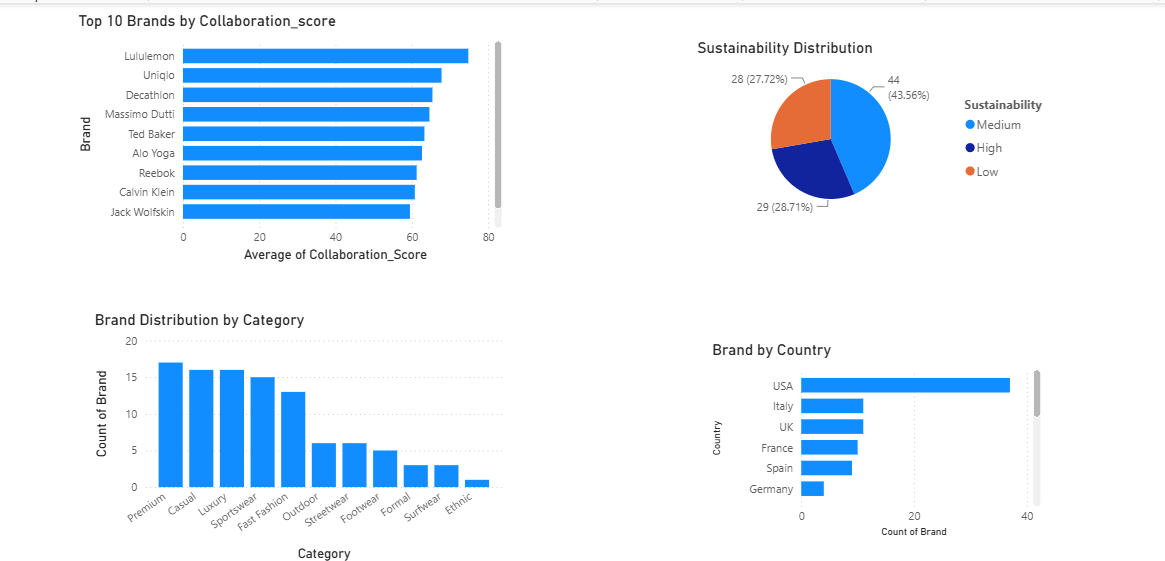

This screenshot's page, from the dashboard's own definition file:
{"tool":"powerbi","page":{"name":"Page 2","canvas":[1280,720],"ordinal":1},"visuals":[{"type":"clusteredBarChart","title":"Top 10 Brands by Collaboration_score","fields":{"Category":["Sheet1.Brand"],"Y":["Avg(Sheet1.Collaboration_Score)"]},"box":[82.3,9.6,474.8,279.9],"z":0},{"type":"lineClusteredColumnComboChart","title":"Brand Distribution by Category","fields":{"Category":["Sheet1.Category"],"Y":["CountNonNull(Sheet1.Brand)"]},"box":[100.2,337.6,456.9,279.9],"z":1},{"type":"pieChart","title":"Sustainability Distribution","fields":{"Category":["Sheet1.Sustainability"],"Y":["CountNonNull(Sheet1.Brand)"]},"box":[761.6,38.4,403.4,203.1],"z":2},{"type":"clusteredBarChart","title":"Brand by Country","fields":{"Category":["Sheet1.Country"],"Y":["CountNonNull(Sheet1.Brand)"]},"box":[778,370.5,370.5,220.9],"z":3}]}

Visuals, with their boxes on the page's 1280x720 design canvas (x1, y1, x2, y2). These are canvas units, not pixel positions in the 1165x561 screenshot, which may show the page scaled, cropped or inside an application window:
"Top 10 Brands by Collaboration_score" clusteredBarChart: bbox=[82, 10, 557, 290]
"Brand Distribution by Category" lineClusteredColumnComboChart: bbox=[100, 338, 557, 618]
"Sustainability Distribution" pieChart: bbox=[762, 38, 1165, 242]
"Brand by Country" clusteredBarChart: bbox=[778, 370, 1148, 591]
